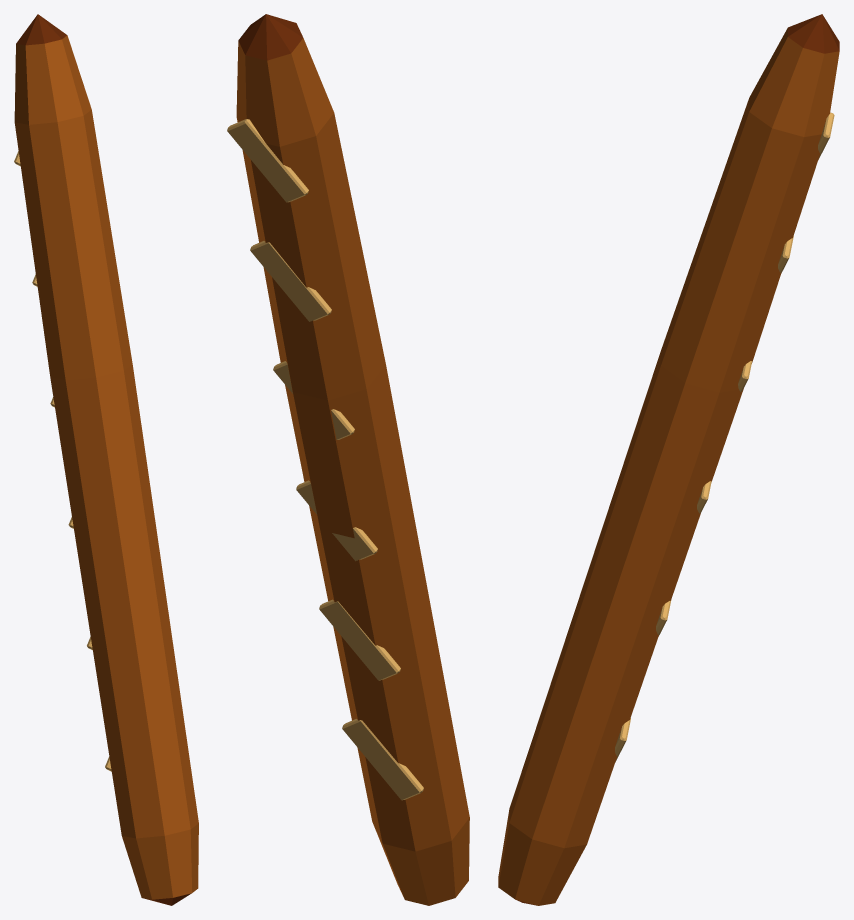
Rendered from SM_Wep_Fun_Baguette.glb.
The picture shows the model from 3 angles, left to right: view 1: azimuth 30°, elevation 25°; view 2: azimuth 150°, elevation 25°; view 3: azimuth 270°, elevation 25°; orthographic projection. The views are drawn at different scales.
Visible parts, largest first — view 1: SM_Wep_Fun_Baguette; view 2: SM_Wep_Fun_Baguette; view 3: SM_Wep_Fun_Baguette.
Part boxes in pixels (x1,y1,x2,y2): SM_Wep_Fun_Baguette: (14,14,198,905); SM_Wep_Fun_Baguette: (227,14,469,905); SM_Wep_Fun_Baguette: (498,14,839,905).
Size of the model in its own units: 0.0591 by 0.6694 by 0.233.
Materials: 1 (1 with a texture image).
